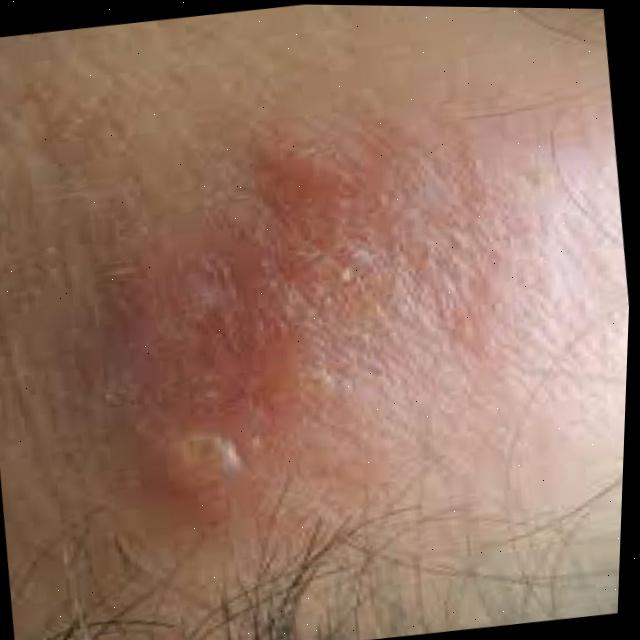Shingles: (141, 151, 418, 504)
